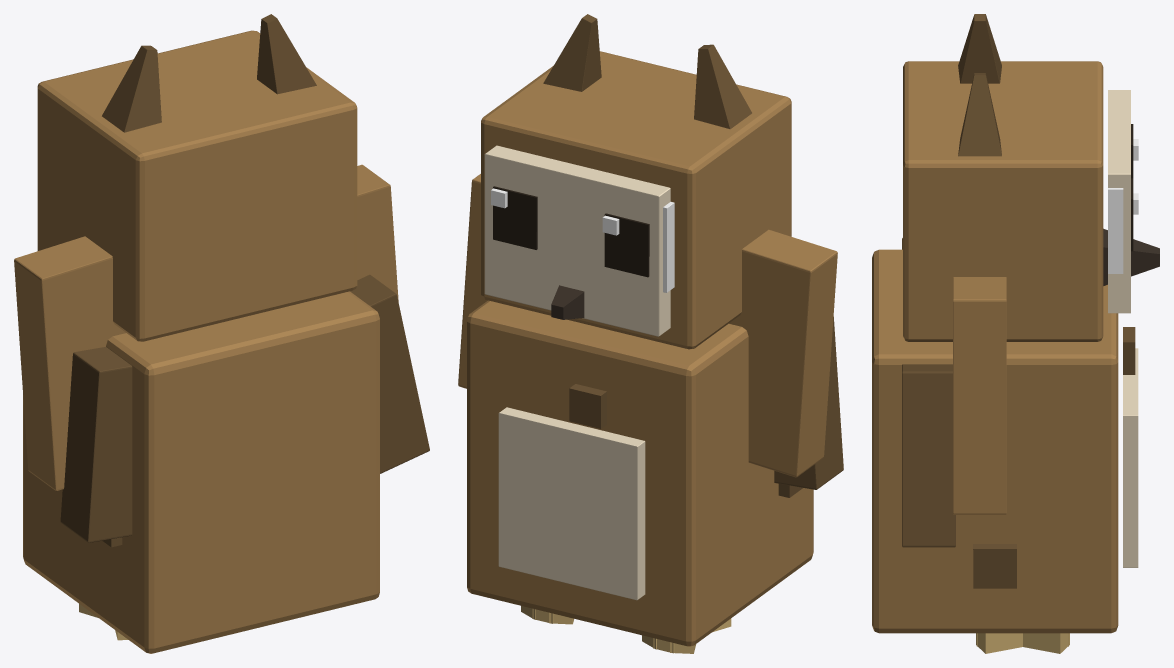
Rendered from burrowing-owl.glb.
3 views of the same model, side by side, from view 1: azimuth 30°, elevation 25°; view 2: azimuth 150°, elevation 25°; view 3: azimuth 270°, elevation 25° (orthographic). The views are drawn at different scales.
Visible parts, largest first — view 1: body, head, wing.R, wing.L; view 2: body, head, wing.R, wing.L, leg.FR; view 3: head, body, wing.L, leg.FL.
Boxes of the visible parts, left/top/right/bottom form: body: left=23, top=291, right=379, bottom=653; head: left=37, top=14, right=357, bottom=341; wing.R: left=14, top=236, right=132, bottom=542; wing.L: left=350, top=164, right=429, bottom=473; body: left=467, top=300, right=813, bottom=646; head: left=481, top=14, right=791, bottom=349; wing.R: left=729, top=229, right=843, bottom=489; wing.L: left=458, top=174, right=487, bottom=388; leg.FR: left=642, top=618, right=731, bottom=653; head: left=903, top=14, right=1159, bottom=341; body: left=872, top=249, right=1138, bottom=633; wing.L: left=902, top=277, right=1006, bottom=547; leg.FL: left=976, top=633, right=1069, bottom=653.
Bounding box in the file's own units: 0.6461 × 1 × 0.4597.
